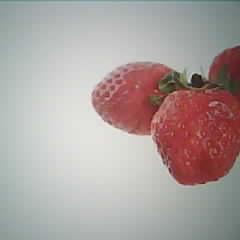straw-ripe: (154, 86, 240, 184)
